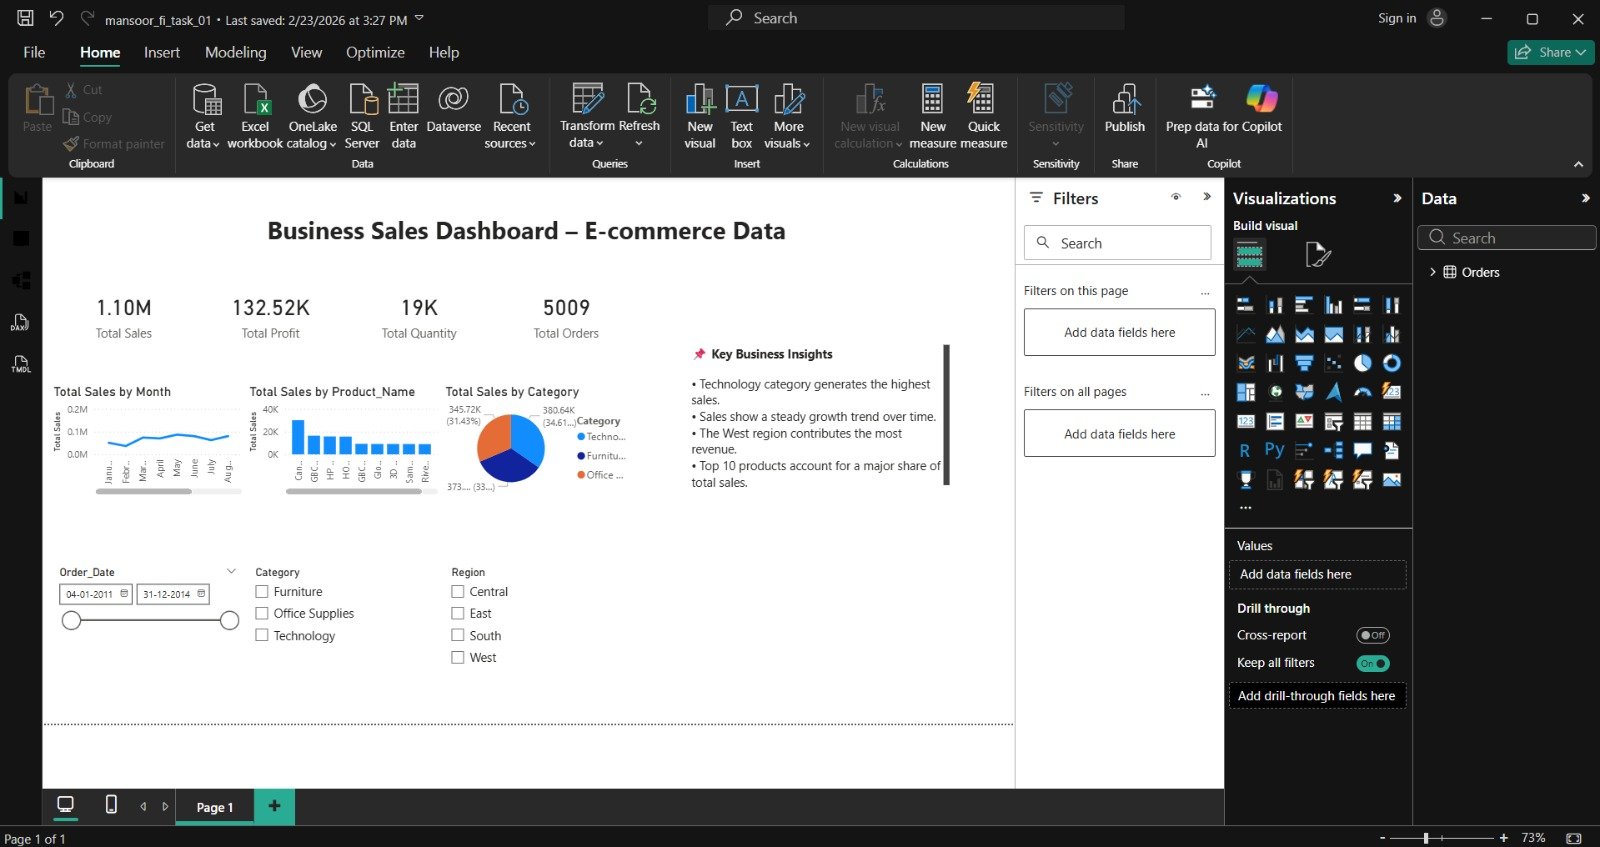

This screenshot's page, from the dashboard's own definition file:
{"tool":"powerbi","page":{"name":"Page 1","canvas":[1280,720],"ordinal":0},"visuals":[{"type":"card","fields":{"Values":["Orders.Total Sales"]},"box":[9.6,104.3,194.9,150.9],"z":0},{"type":"card","fields":{"Values":["Orders.Total Profit"]},"box":[204.5,104.3,192.1,150.9],"z":1000},{"type":"card","fields":{"Values":["Orders.Total Quantity"]},"box":[396.6,104.3,199,150.9],"z":2000},{"type":"card","fields":{"Values":["Orders.Total Orders"]},"box":[595.5,104.3,188,150.9],"z":3000},{"type":"lineChart","fields":{"Category":["Orders.Order_Date.Variation.Date Hierarchy.Month"],"Y":["Orders.Total Sales"]},"box":[9.6,271.7,258,150.9],"z":4000},{"type":"clusteredColumnChart","fields":{"Category":["Orders.Product_Name"],"Y":["Orders.Total Sales"]},"box":[267.6,271.7,258,150.9],"z":5000},{"type":"pieChart","fields":{"Category":["Orders.Category"],"Y":["Orders.Total Sales"]},"box":[525.6,271.7,258,150.9],"z":6000},{"type":"slicer","fields":{"Values":["Orders.Order_Date"]},"box":[9.6,506.3,258,150.9],"z":7000},{"type":"slicer","fields":{"Values":["Orders.Category"]},"box":[267.6,506.3,258,150.9],"z":8000},{"type":"slicer","fields":{"Values":["Orders.Region"]},"box":[525.6,506.3,258,150.9],"z":9000},{"type":"textbox","box":[849.4,215.4,349.9,197.6],"z":10000},{"type":"textbox","box":[9.6,42.5,1255.6,61.7],"z":11000}]}

Visuals, with their boxes on the page's 1280x720 design canvas (x1, y1, x2, y2). These are canvas units, not pixel positions in the 1600x847 screenshot, which may show the page scaled, cropped or inside an application window:
card - Orders.Total Sales: {"x1": 10, "y1": 104, "x2": 204, "y2": 255}
card - Orders.Total Profit: {"x1": 204, "y1": 104, "x2": 397, "y2": 255}
card - Orders.Total Quantity: {"x1": 397, "y1": 104, "x2": 596, "y2": 255}
card - Orders.Total Orders: {"x1": 596, "y1": 104, "x2": 784, "y2": 255}
lineChart - Orders.Order_Date.Variation.Date Hierarchy.Month x Orders.Total Sales: {"x1": 10, "y1": 272, "x2": 268, "y2": 423}
clusteredColumnChart - Orders.Product_Name x Orders.Total Sales: {"x1": 268, "y1": 272, "x2": 526, "y2": 423}
pieChart - Orders.Category x Orders.Total Sales: {"x1": 526, "y1": 272, "x2": 784, "y2": 423}
slicer - Orders.Order_Date: {"x1": 10, "y1": 506, "x2": 268, "y2": 657}
slicer - Orders.Category: {"x1": 268, "y1": 506, "x2": 526, "y2": 657}
slicer - Orders.Region: {"x1": 526, "y1": 506, "x2": 784, "y2": 657}
textbox: {"x1": 849, "y1": 215, "x2": 1199, "y2": 413}
textbox: {"x1": 10, "y1": 42, "x2": 1265, "y2": 104}
